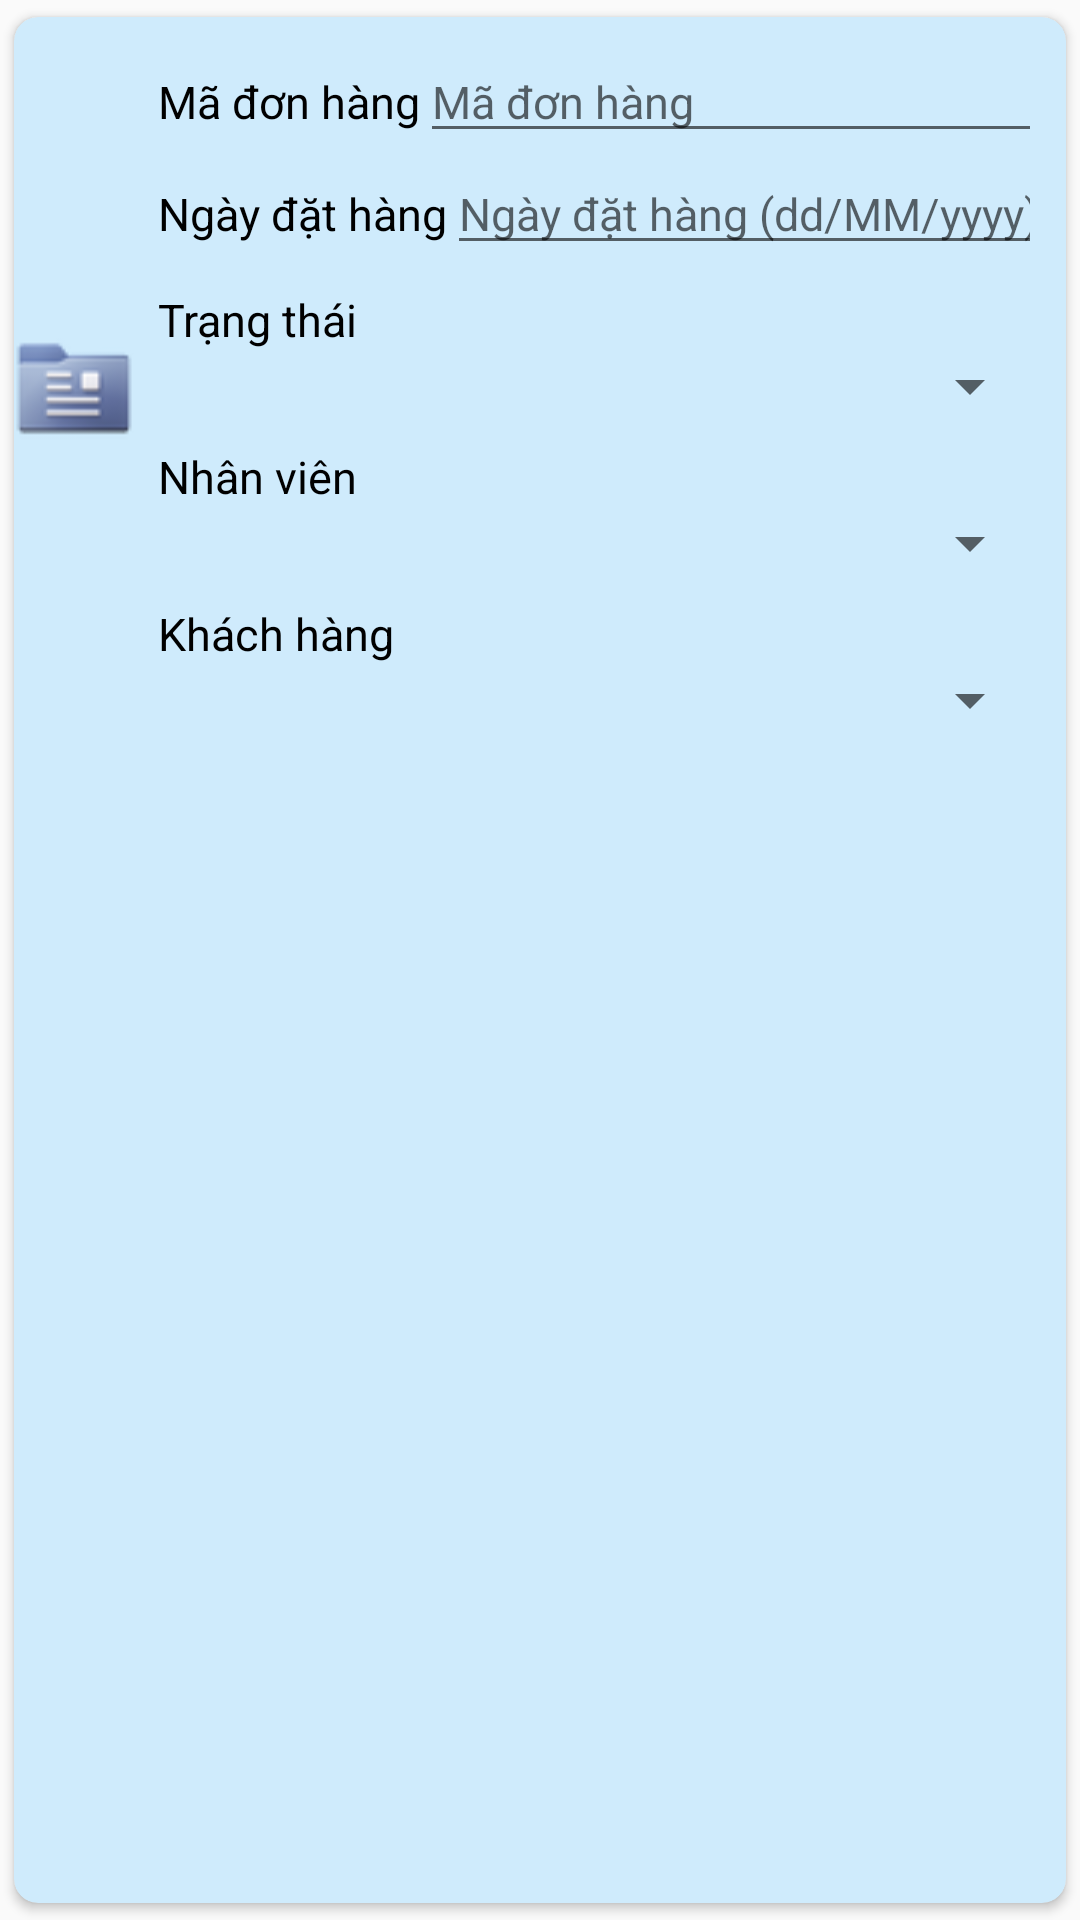

Screen size 1080×1920. Icon name, then its box in pixels as region(x1, y1, x2, y2):
donhang: region(18, 343, 131, 434)
